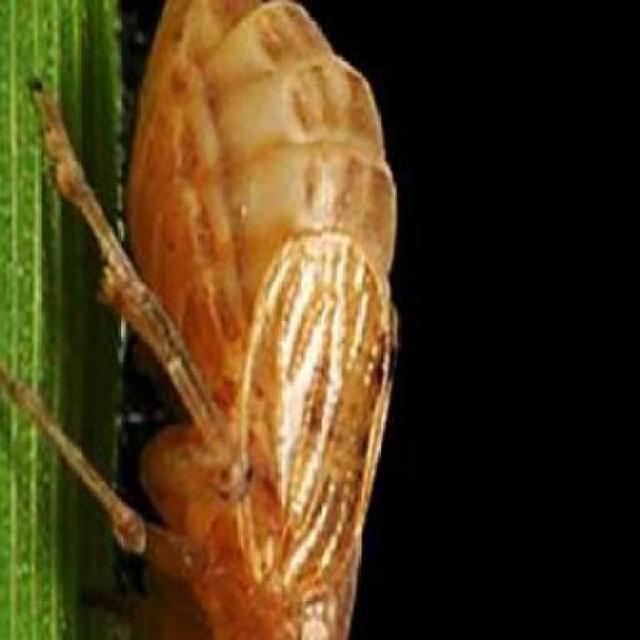brown-planthopper: (109, 0, 396, 640)
